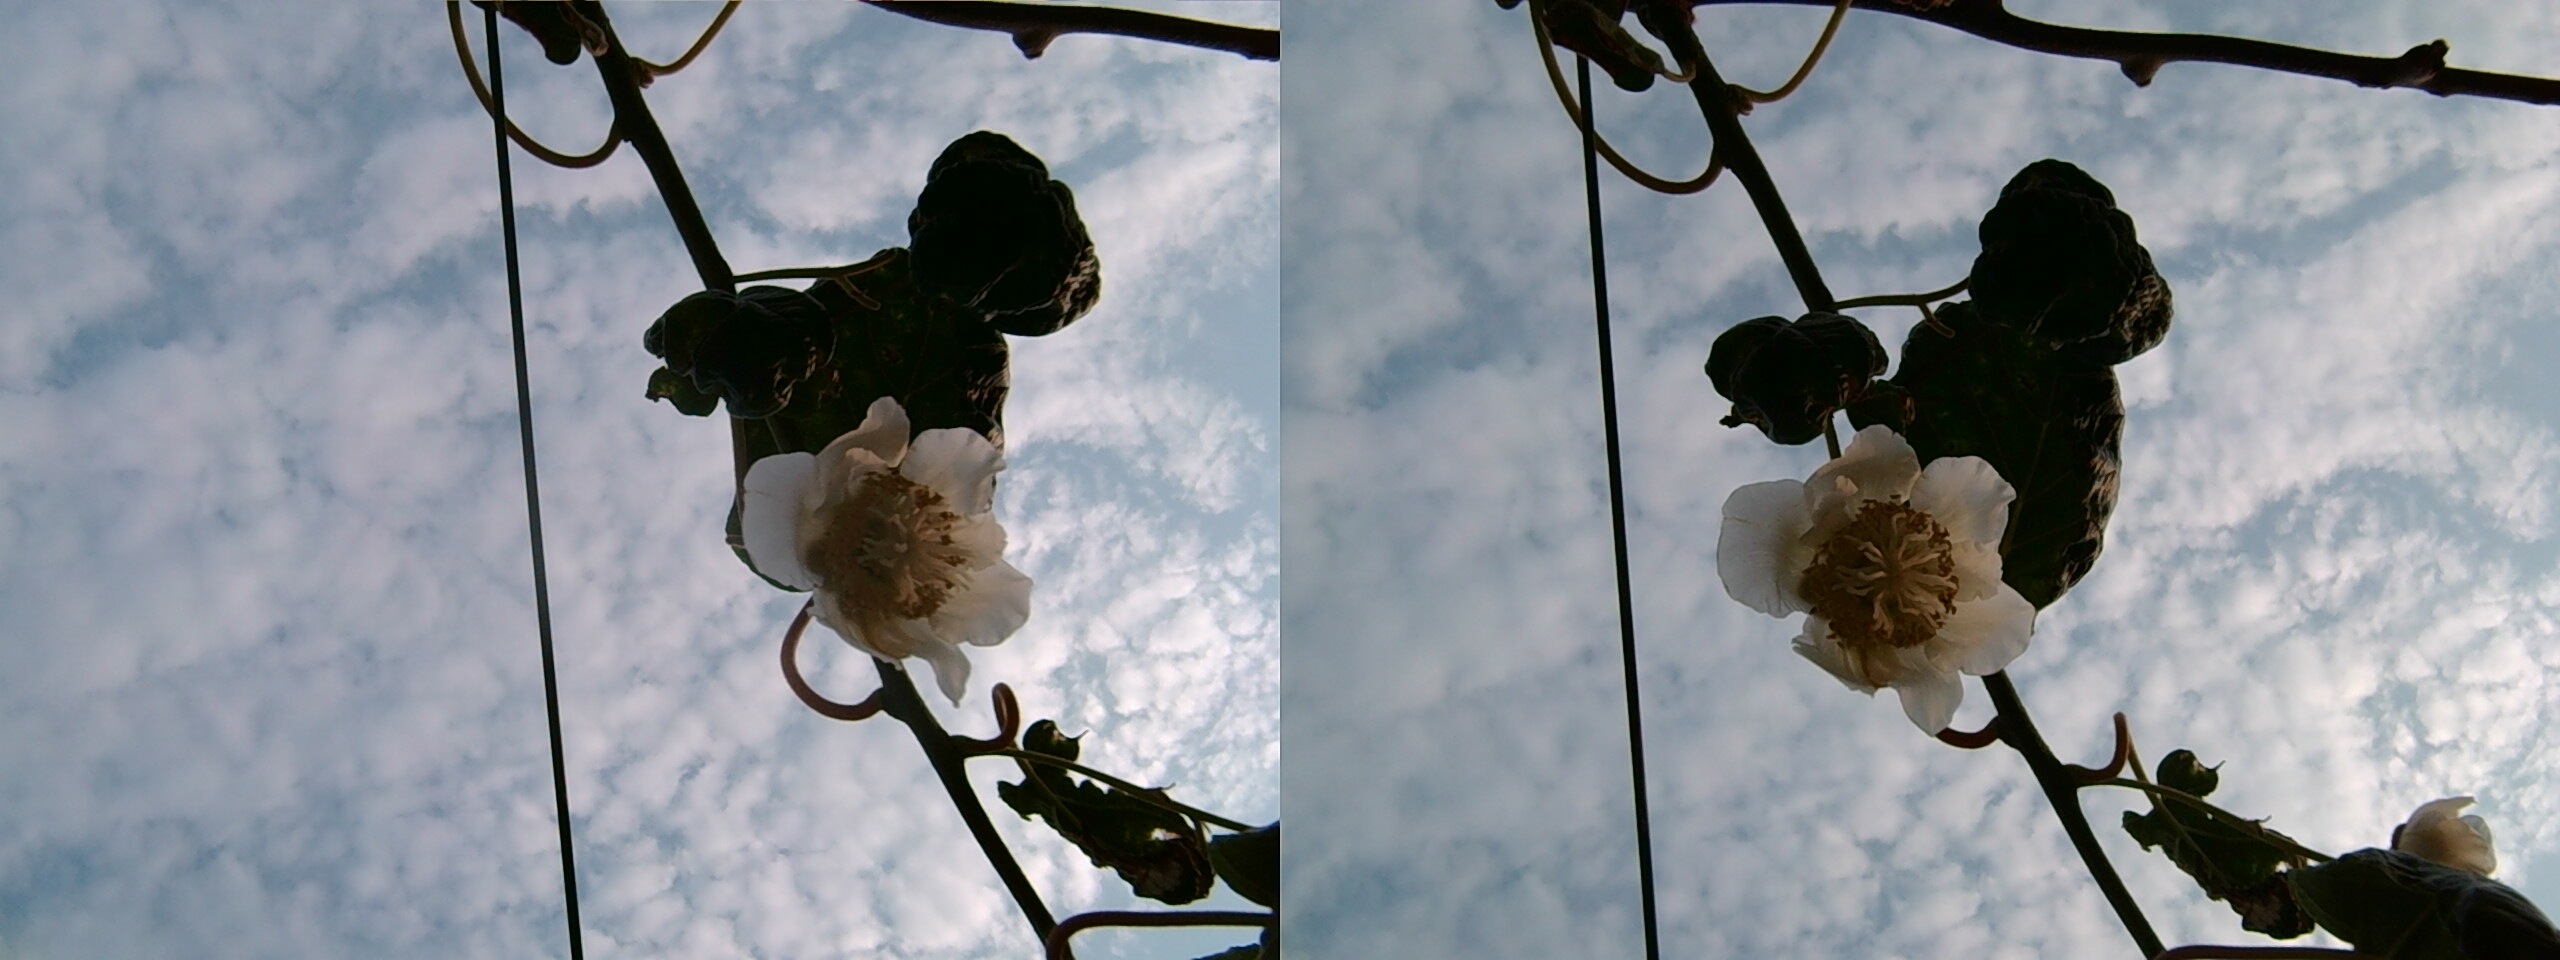flower: (1722, 433, 2033, 713), (743, 413, 1033, 678)
